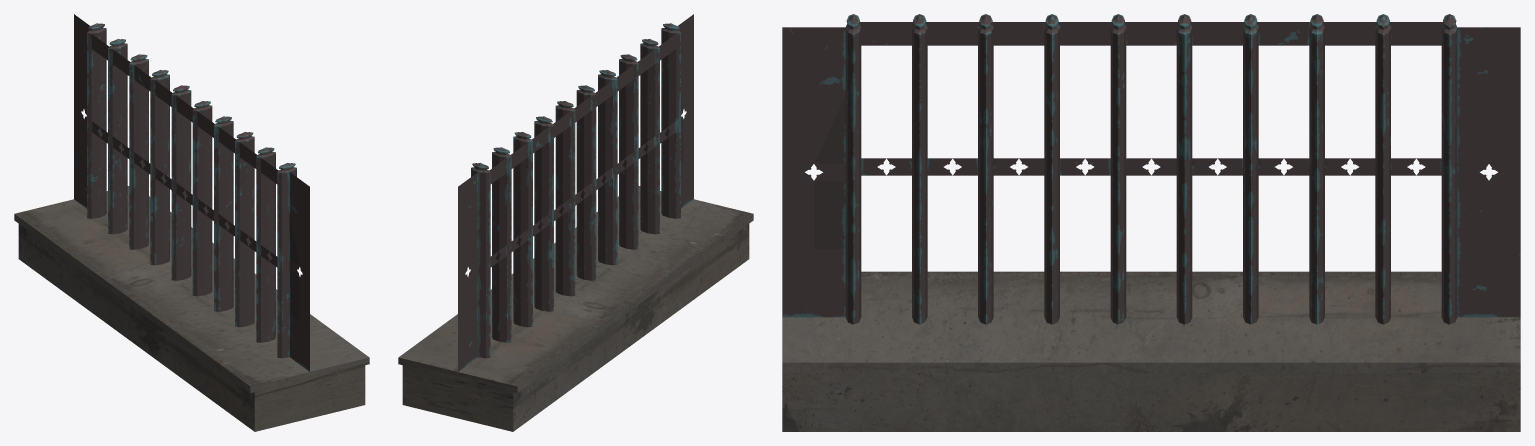
Rendered from Cerca.fbx.
The picture shows the model from 3 angles, left to right: view 1: azimuth 30°, elevation 25°; view 2: azimuth 150°, elevation 25°; view 3: azimuth 270°, elevation 25°; orthographic projection. The views are drawn at different scales.
Visible parts, largest first — view 1: Cube.003; view 2: Cube.003; view 3: Cube.003.
Boxes of the visible parts, x1,y1,x2,y2 form: Cube.003: (14, 14, 369, 431); Cube.003: (398, 14, 753, 431); Cube.003: (782, 14, 1520, 431).
Size of the model in its own units: 537 by 1028 by 1841.
Materials: 1 (1 with a texture image).
